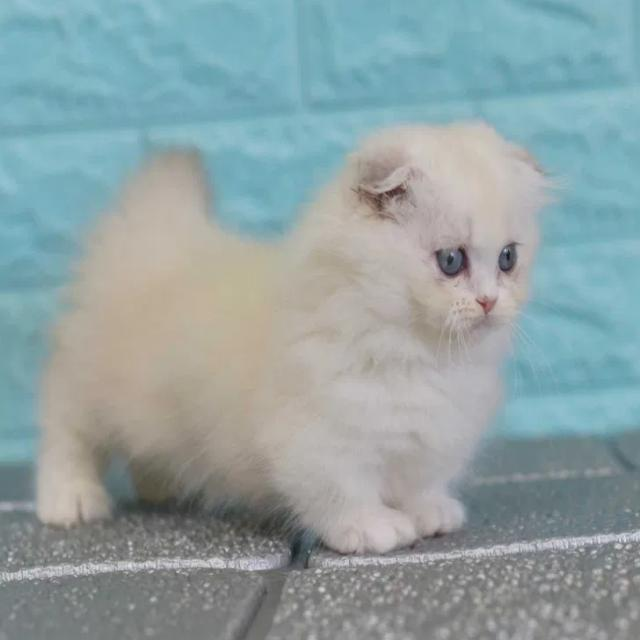Munchkin: (26, 112, 552, 562)
